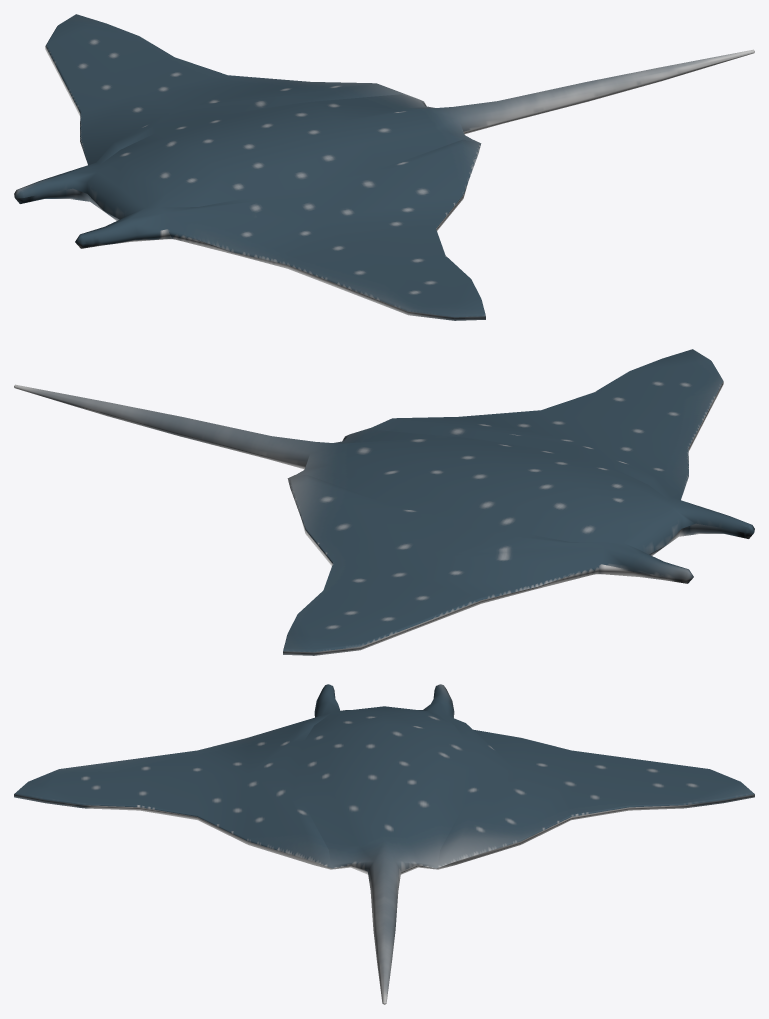
File: fish3.obj
3 renders of one model, top to bottom at view 1: azimuth 30°, elevation 25°; view 2: azimuth 150°, elevation 25°; view 3: azimuth 270°, elevation 25°, orthographic. The views are drawn at different scales.
Parts seen in each view (by area): view 1: Mantaray_Mesh; view 2: Mantaray_Mesh; view 3: Mantaray_Mesh.
Boxes of the visible parts, left/top/right/bottom form: Mantaray_Mesh: left=14, top=14, right=754, bottom=320; Mantaray_Mesh: left=14, top=349, right=754, bottom=655; Mantaray_Mesh: left=14, top=684, right=754, bottom=1004.
Size of the model in its own units: 14.33 by 1.06 by 14.37.
1 material, 1 textured.
